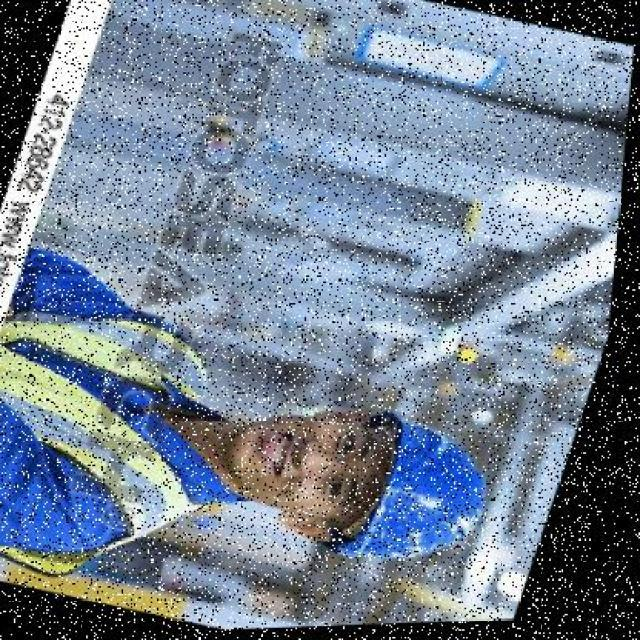helmet: (340, 403, 525, 593)
vest: (0, 280, 249, 571)
